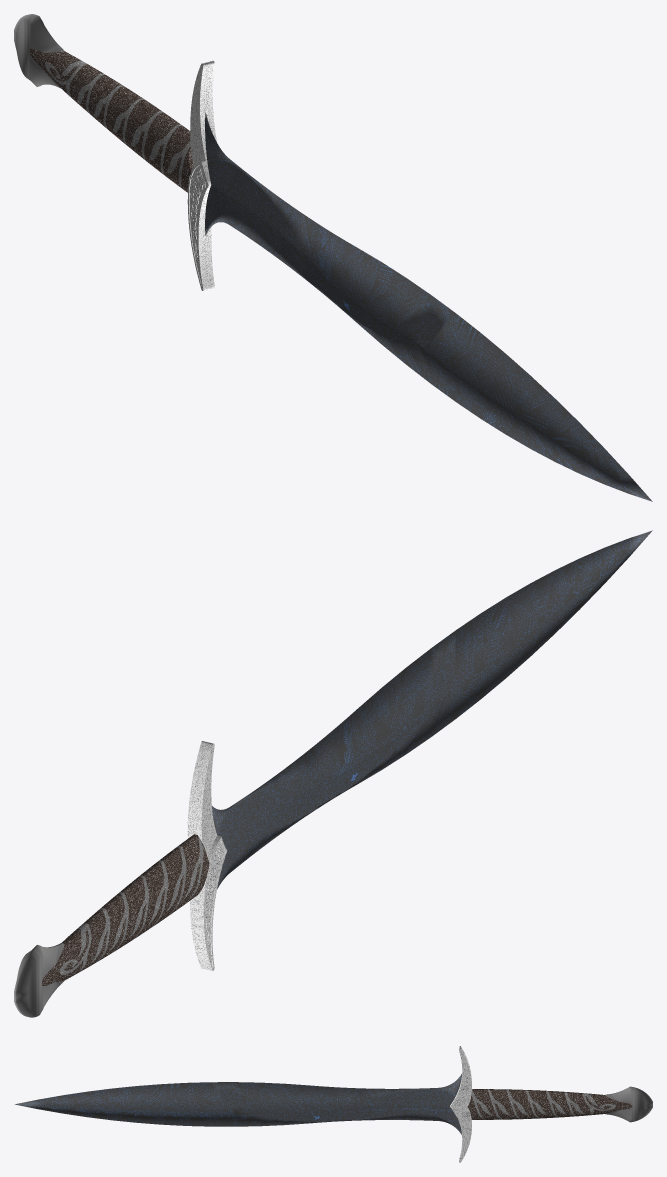
File: model_scale.obj
The picture shows the model from 3 angles, top to bottom: view 1: azimuth 30°, elevation 25°; view 2: azimuth 150°, elevation 25°; view 3: azimuth 270°, elevation 25°; orthographic projection. The views are drawn at different scales.
Parts seen in each view (by area): view 1: mesh5_mesh5-geometry, mesh2_mesh2-geometry, mesh4_mesh4-geometry, mesh1_mesh1-geometry; view 2: mesh5_mesh5-geometry, mesh2_mesh2-geometry, mesh4_mesh4-geometry, mesh1_mesh1-geometry; view 3: mesh5_mesh5-geometry, mesh2_mesh2-geometry, mesh4_mesh4-geometry, mesh1_mesh1-geometry.
Part boxes in pixels (<box>): mesh5_mesh5-geometry: <box>205,113,652,501</box>; mesh2_mesh2-geometry: <box>30,48,193,192</box>; mesh4_mesh4-geometry: <box>187,60,217,290</box>; mesh1_mesh1-geometry: <box>14,14,64,88</box>; mesh5_mesh5-geometry: <box>212,530,652,889</box>; mesh2_mesh2-geometry: <box>42,834,209,985</box>; mesh4_mesh4-geometry: <box>187,741,227,970</box>; mesh1_mesh1-geometry: <box>14,943,64,1017</box>; mesh5_mesh5-geometry: <box>14,1074,461,1134</box>; mesh2_mesh2-geometry: <box>467,1089,632,1119</box>; mesh4_mesh4-geometry: <box>449,1046,471,1162</box>; mesh1_mesh1-geometry: <box>605,1086,652,1122</box>.
Bounding box in the file's own units: 0.00588 × 0.0442 × 0.225.
